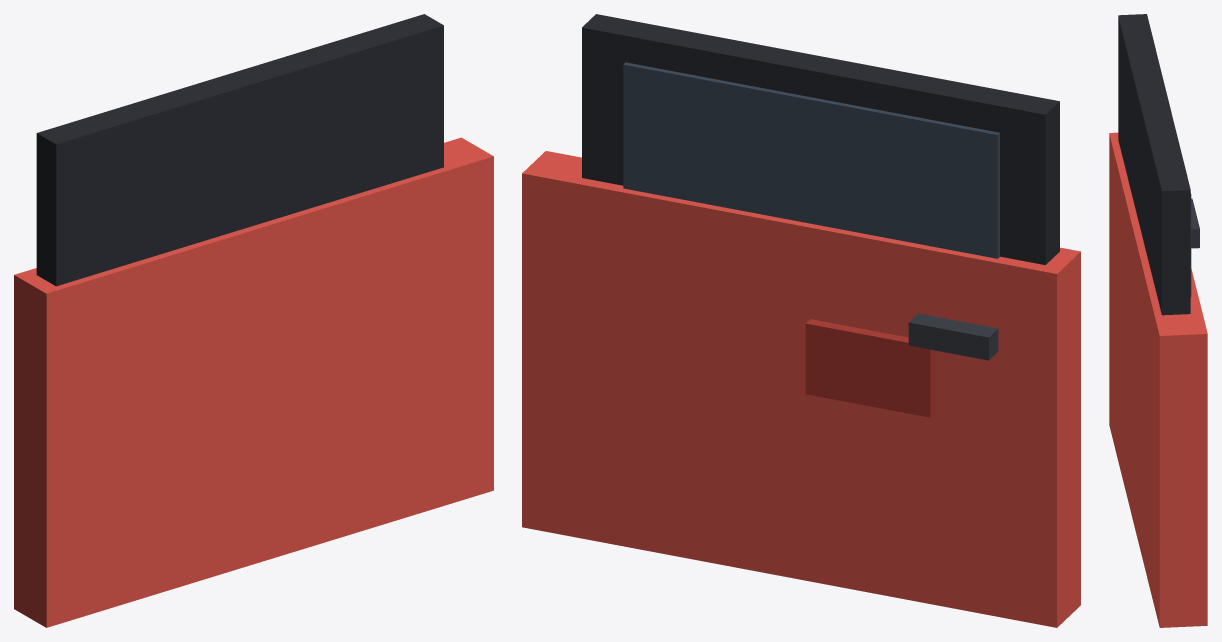
The model's file is FX_Scrap2_Door.fbx.
The picture shows the model from 3 angles, left to right: view 1: azimuth 30°, elevation 25°; view 2: azimuth 150°, elevation 25°; view 3: azimuth 270°, elevation 25°; orthographic projection. The views are drawn at different scales.
Visible parts, largest first — view 1: FX_Scrap2_Door; view 2: FX_Scrap2_Door; view 3: FX_Scrap2_Door.
Boxes of the visible parts, x1,y1,x2,y2 form: FX_Scrap2_Door: (14,14,493,627); FX_Scrap2_Door: (522,14,1080,627); FX_Scrap2_Door: (1109,14,1207,627).
Bounding box in the file's own units: 0.603 × 0.57 × 0.1224.
